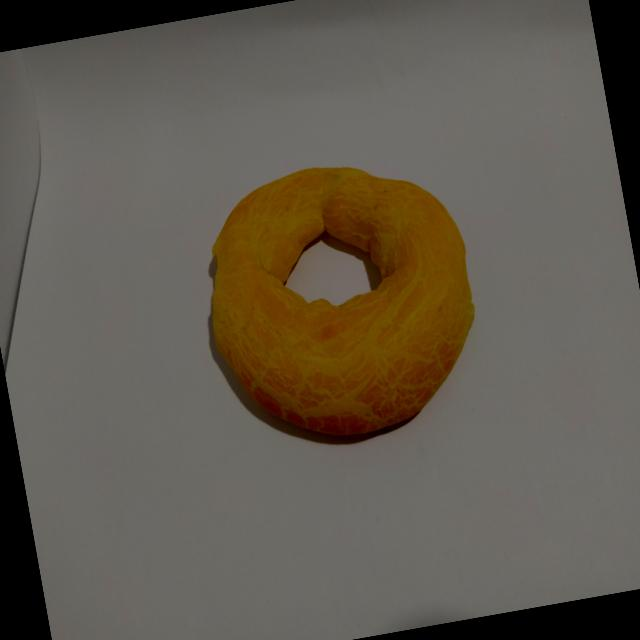Chipa: (174, 132, 506, 473)
